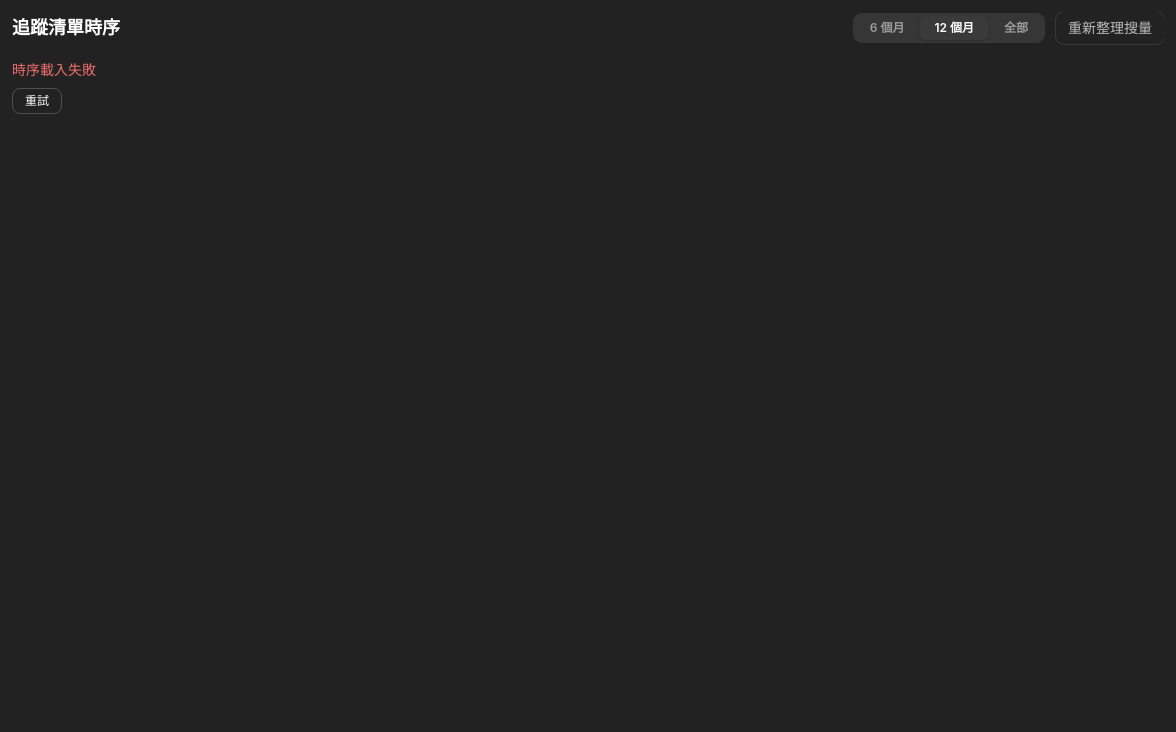
Test: TC-30 · manual refresh (POST /:listId/refresh, guarded) › series-load failure → 重試 reloads and renders the series on success (state matrix)
expect the text "時序載入失敗" is shown: met, box top-left (12, 61), bottom-right (96, 78)
Click the button "重試" at {"x": 37, "y": 101}, box top-left (12, 88), bottom-right (62, 114)
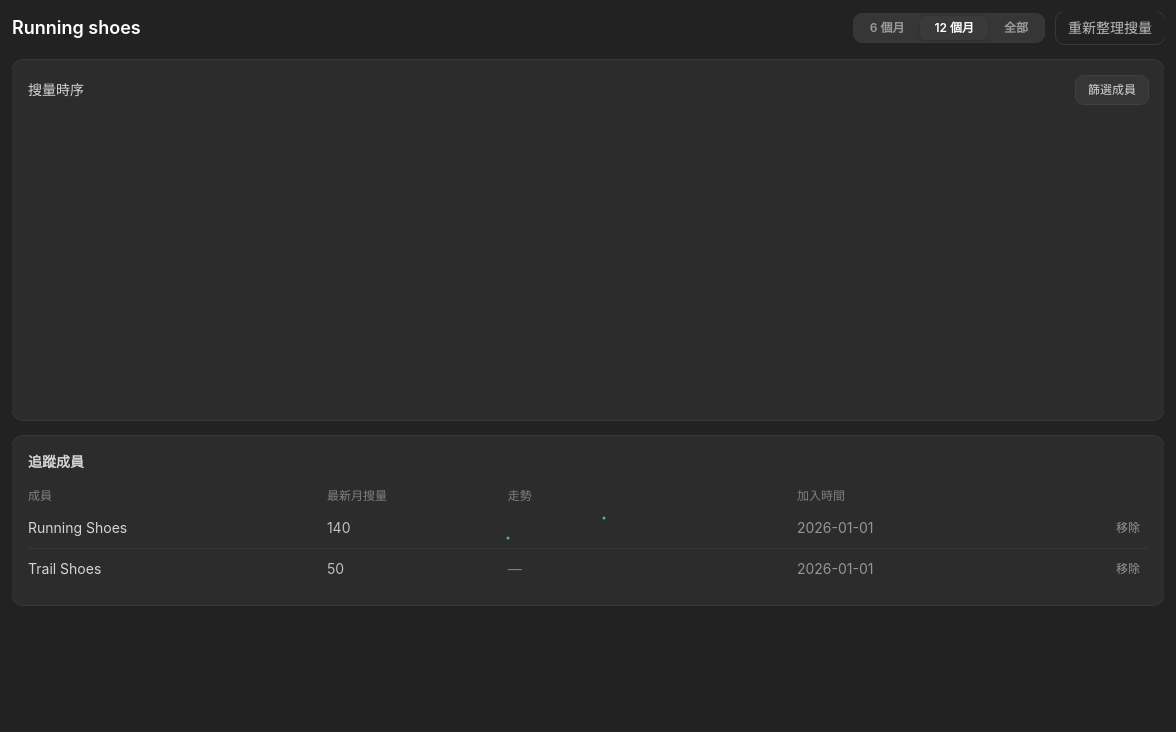
expect the text "Running Shoes" is shown: met, box top-left (28, 508), bottom-right (327, 548)
